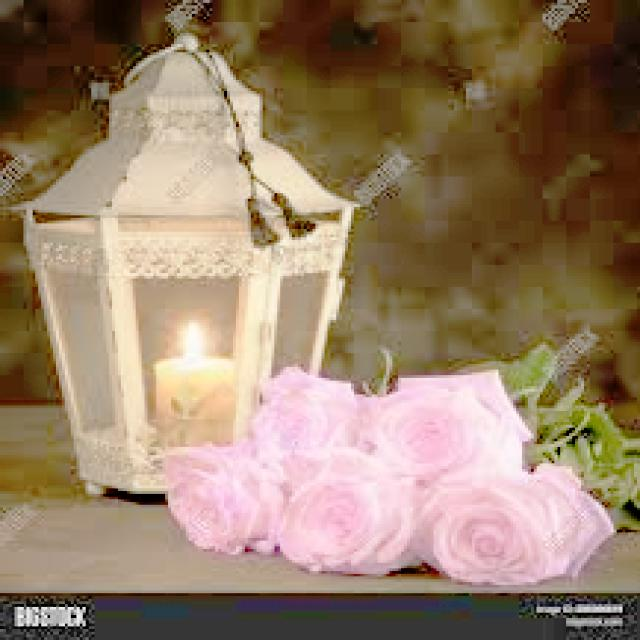api: (164, 316, 214, 365)
